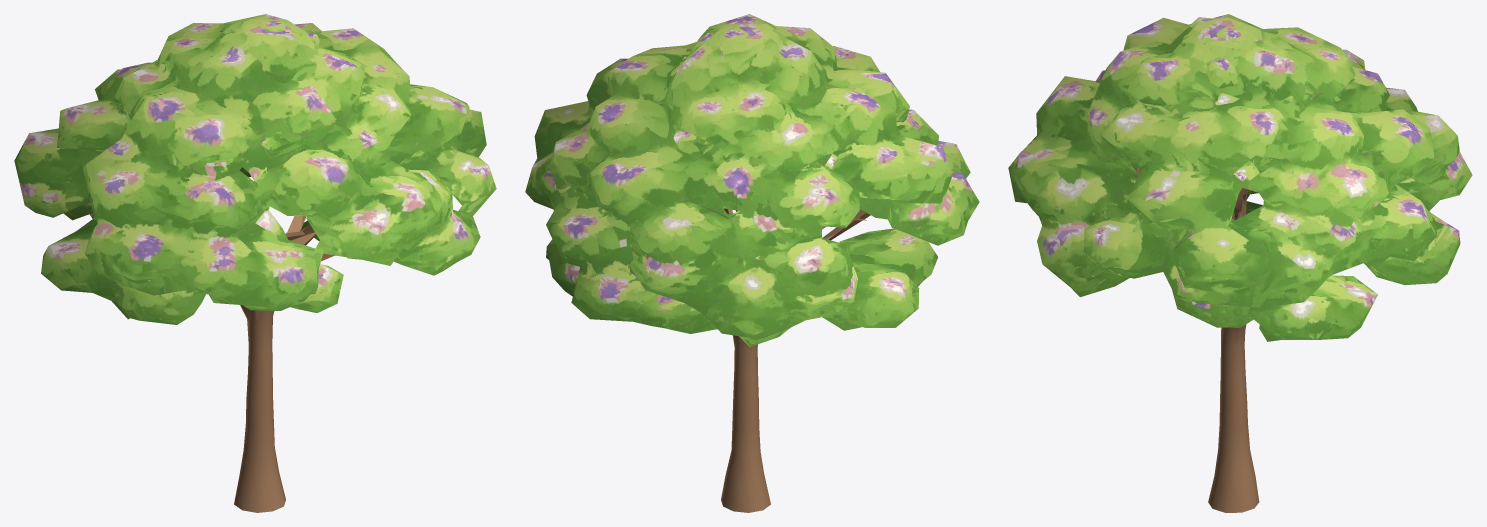
The model's file is tree_round_a.glb.
3 views of the same model, side by side, from view 1: azimuth 30°, elevation 25°; view 2: azimuth 150°, elevation 25°; view 3: azimuth 270°, elevation 25° (orthographic). The views are drawn at different scales.
Visible parts, largest first — view 1: body; view 2: body; view 3: body.
Part boxes in pixels (left/top/right/bottom): body: left=14, top=14, right=496, bottom=512; body: left=525, top=14, right=979, bottom=512; body: left=1008, top=14, right=1472, bottom=512.
Bounding box in the file's own units: 4.9 × 5.46 × 4.81.
Materials: 2 (2 with a texture image).
